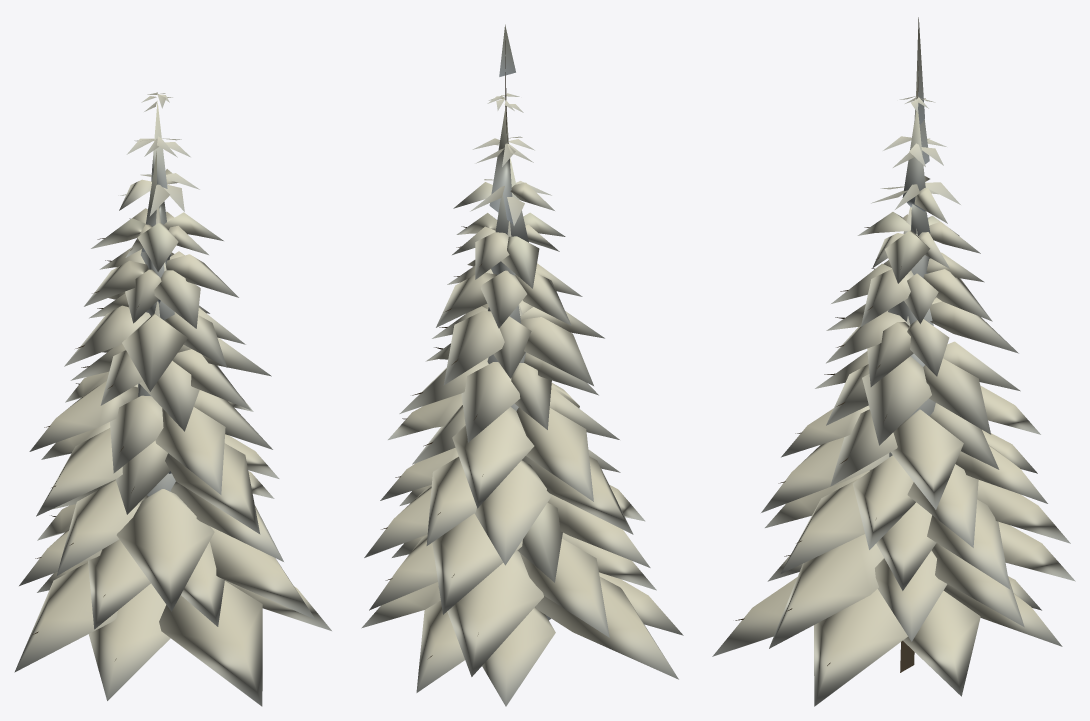
3 views of the same model, side by side, from view 1: azimuth 30°, elevation 25°; view 2: azimuth 150°, elevation 25°; view 3: azimuth 270°, elevation 25° (orthographic). The views are drawn at different scales.
Visible parts, largest first — view 1: crown; view 2: crown; view 3: crown.
Boxes of the visible parts, x1,y1,x2,y2 form: crown: [14, 92, 331, 706]; crown: [361, 24, 683, 706]; crown: [712, 17, 1075, 706].
Size of the model in its own units: 7.42 by 16.12 by 8.1.
